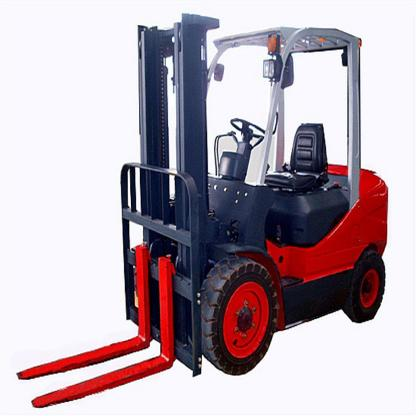forklift: (16, 9, 389, 410)
